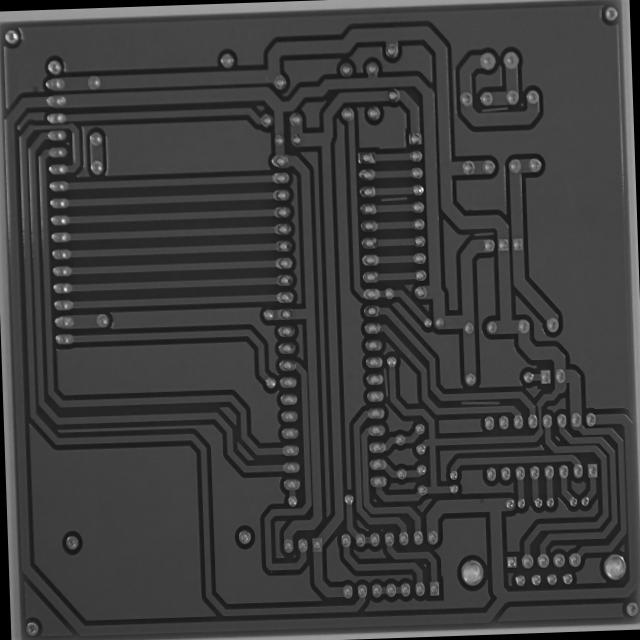spurious_copper: (458, 393, 500, 411), (378, 190, 410, 208), (478, 100, 509, 116), (378, 366, 391, 400), (469, 226, 495, 239)
